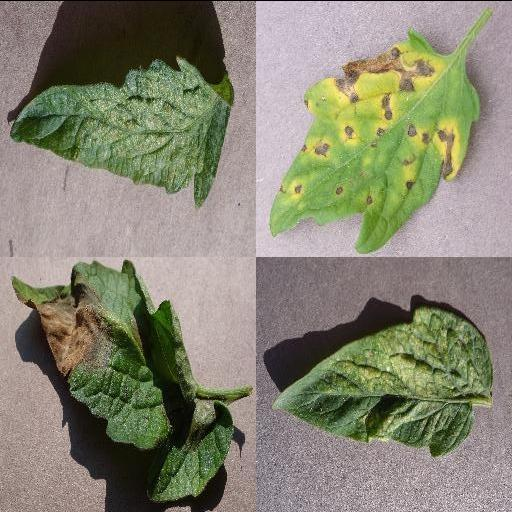Late Blight: (9, 257, 235, 503)
Septoria: (268, 32, 484, 252)
Spider Mites: (7, 52, 235, 208), (269, 306, 493, 456)
